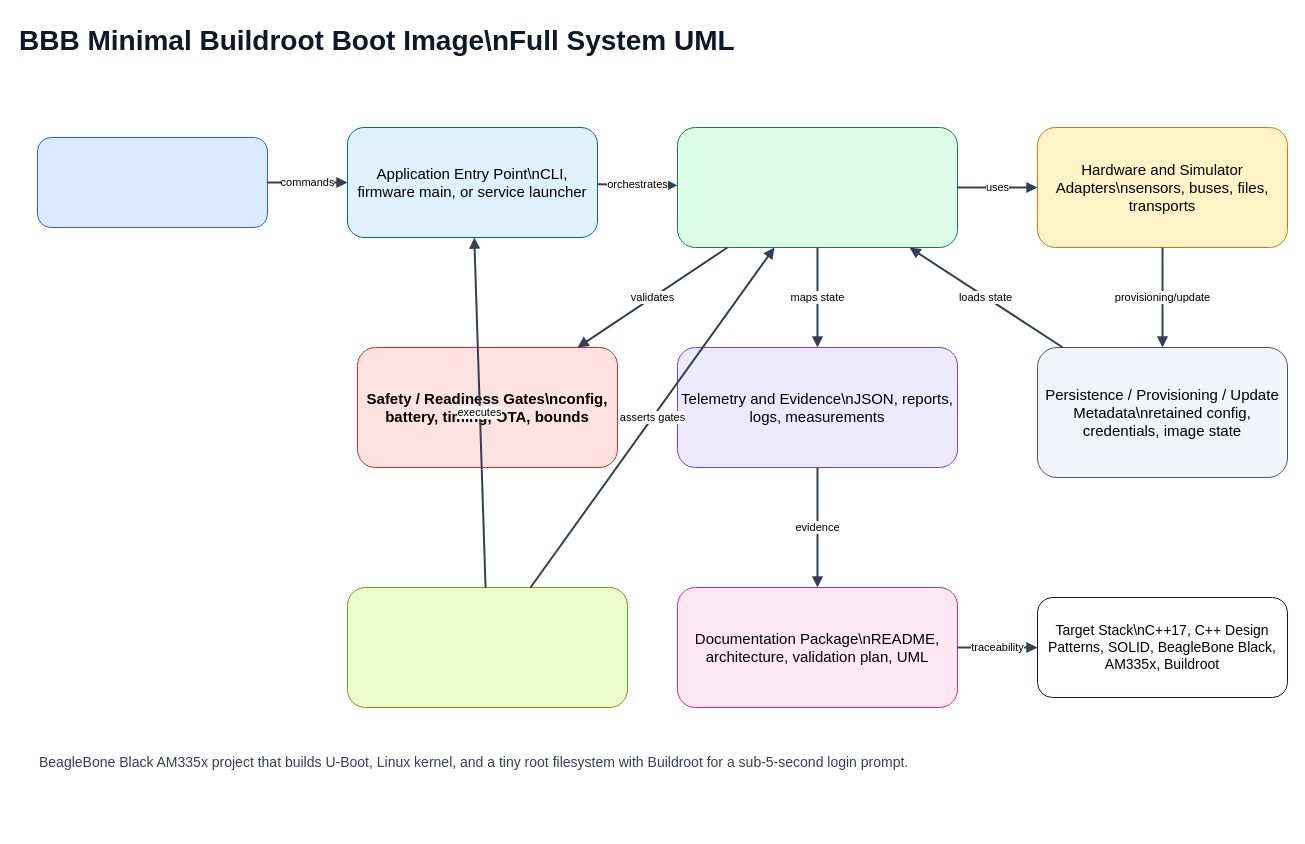
Image size: 1305x844. Some labels were removed from this diagram. Each missing label, with the box of its shape:
Domain / Control Core\nstate model, policy, orchestration: (676, 126, 958, 248)
Operator / Cloud / Test Harness: (36, 136, 268, 228)
Tests and CI\nCMake, CTest, smoke runs, expected failures: (346, 586, 628, 708)
